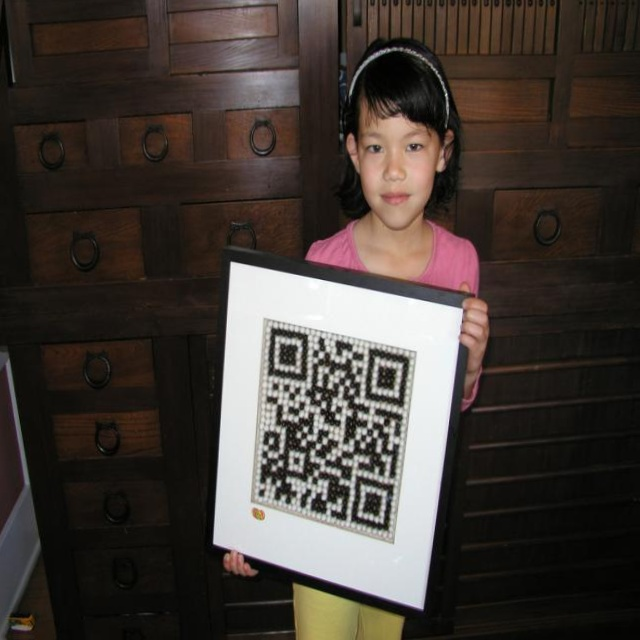qr-code: (258, 327, 409, 531)
